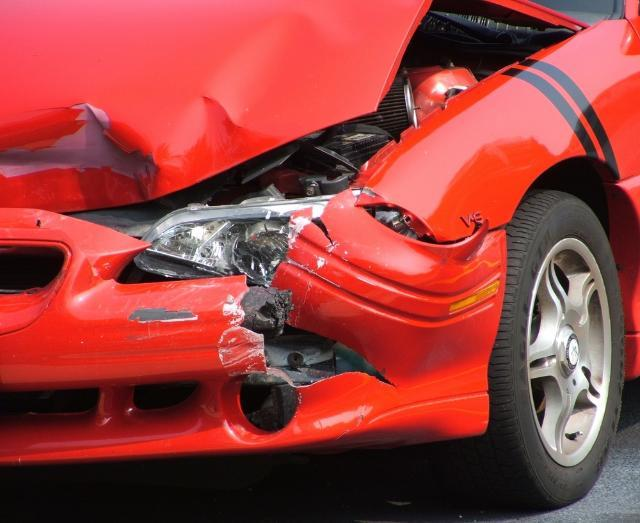crack: (265, 322, 401, 389), (310, 217, 336, 248)
dent: (0, 11, 350, 209)
dislocated part: (0, 0, 582, 240), (123, 187, 508, 459)
scratch: (216, 292, 268, 375), (130, 303, 206, 328)
